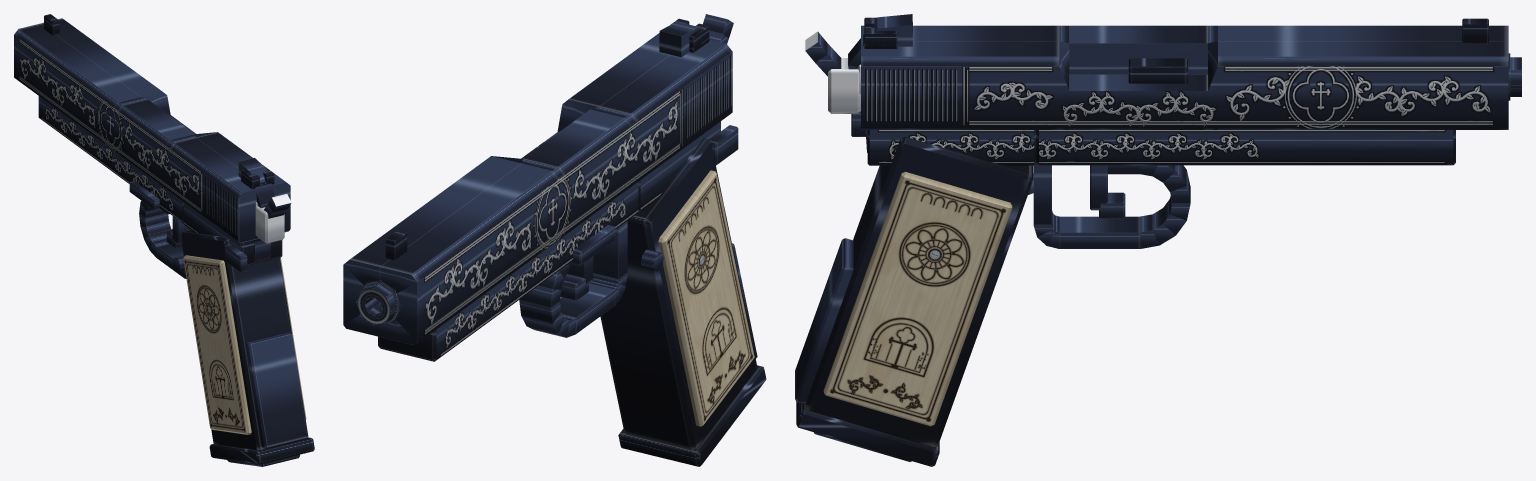
Rendered from pistol_1911_camo_rare.glb.
3 renders of one model, left to right at view 1: azimuth 30°, elevation 25°; view 2: azimuth 150°, elevation 25°; view 3: azimuth 270°, elevation 25°, orthographic. The views are drawn at different scales.
Parts seen in each view (by area): view 1: frame, slide; view 2: frame, slide; view 3: frame, slide.
Boxes of the visible parts, x1=… form: frame: x1=38, y1=96, x2=314, y2=464; slide: x1=14, y1=14, x2=290, y2=243; frame: x1=356, y1=14, x2=766, y2=466; slide: x1=343, y1=18, x2=732, y2=345; frame: x1=795, y1=14, x2=1521, y2=466; slide: x1=861, y1=17, x2=1508, y2=129.
Bounding box in the file's own units: 0.0306 × 0.1435 × 0.22.
Materials: 2 (2 with a texture image).
